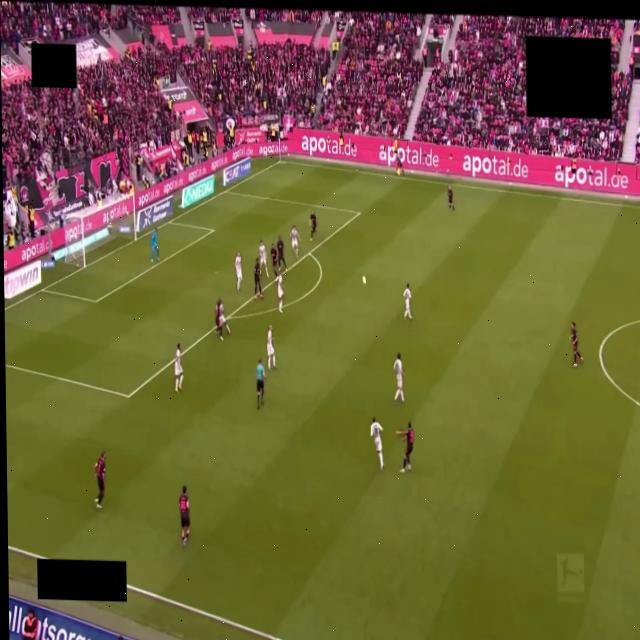ball: (362, 277, 366, 284)
player: (397, 422, 413, 473), (179, 485, 191, 546), (94, 452, 105, 509), (371, 418, 383, 470), (216, 299, 230, 340), (393, 354, 404, 403), (571, 322, 582, 367), (174, 343, 183, 392), (254, 259, 263, 299), (267, 326, 275, 370), (277, 236, 287, 270), (403, 284, 412, 319), (151, 228, 160, 262), (260, 241, 268, 277), (235, 253, 242, 293), (291, 226, 299, 256), (277, 272, 283, 312), (271, 244, 278, 278), (310, 210, 316, 240), (448, 187, 455, 211)
referee: (256, 360, 265, 408)
